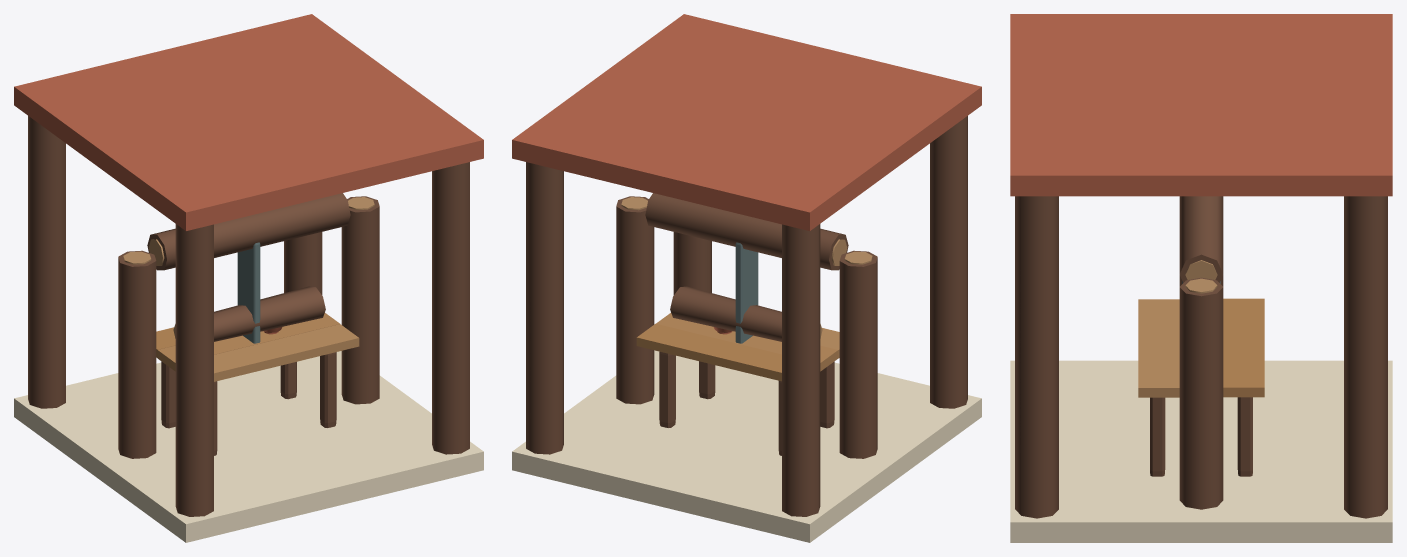
Rendered from sawmill.glb.
3 renders of one model, left to right at view 1: azimuth 30°, elevation 25°; view 2: azimuth 150°, elevation 25°; view 3: azimuth 270°, elevation 25°, orthographic. The views are drawn at different scales.
Visible parts, largest first — view 1: Floor, Cap2, Cap4, Cap, Cap3, Post2, Post4, Post, SawFrame, SawFrame2, TableTop, Crossbar (+6 smaller); view 2: Floor, Cap, Cap3, Cap2, Cap4, Post, Post3, Post2, SawFrame, SawFrame2, TableTop, Crossbar (+6 smaller); view 3: Floor, Cap3, Cap4, Cap, Cap2, Post3, Post4, SawFrame2, TableTop, Crossbar, TableLeg3, TableLeg4.
Part boxes in pixels (x1,y1,x2,y2): Floor: [14, 351, 483, 542]; Cap2: [100, 113, 334, 230]; Cap4: [249, 77, 483, 194]; Cap: [14, 50, 248, 167]; Cap3: [163, 14, 397, 112]; Post2: [175, 224, 213, 516]; Post4: [432, 162, 469, 454]; Post: [28, 116, 65, 408]; SawFrame: [118, 250, 156, 458]; SawFrame2: [341, 196, 379, 404]; TableTop: [156, 313, 359, 381]; Crossbar: [147, 193, 350, 270]; Floor: [512, 350, 981, 542]; Cap: [661, 113, 895, 230]; Cap3: [512, 77, 746, 194]; Cap2: [747, 50, 981, 167]; Cap4: [598, 14, 832, 112]; Post: [782, 224, 820, 516]; Post3: [526, 162, 563, 454]; Post2: [930, 116, 967, 408]; SawFrame: [839, 250, 877, 458]; SawFrame2: [616, 196, 654, 404]; TableTop: [636, 313, 839, 381]; Crossbar: [645, 193, 848, 270]; Floor: [1010, 360, 1392, 542]; Cap3: [1201, 94, 1392, 196]; Cap4: [1010, 94, 1201, 196]; Cap: [1201, 14, 1392, 94]; Cap2: [1010, 14, 1201, 94]; Post3: [1344, 196, 1387, 518]; Post4: [1015, 196, 1058, 518]; SawFrame2: [1179, 277, 1223, 509]; TableTop: [1138, 298, 1264, 397]; Crossbar: [1179, 196, 1223, 282]; TableLeg3: [1237, 397, 1252, 476]; TableLeg4: [1150, 397, 1165, 476].
Bounding box in the file's own units: 2 × 2.12 × 2.
